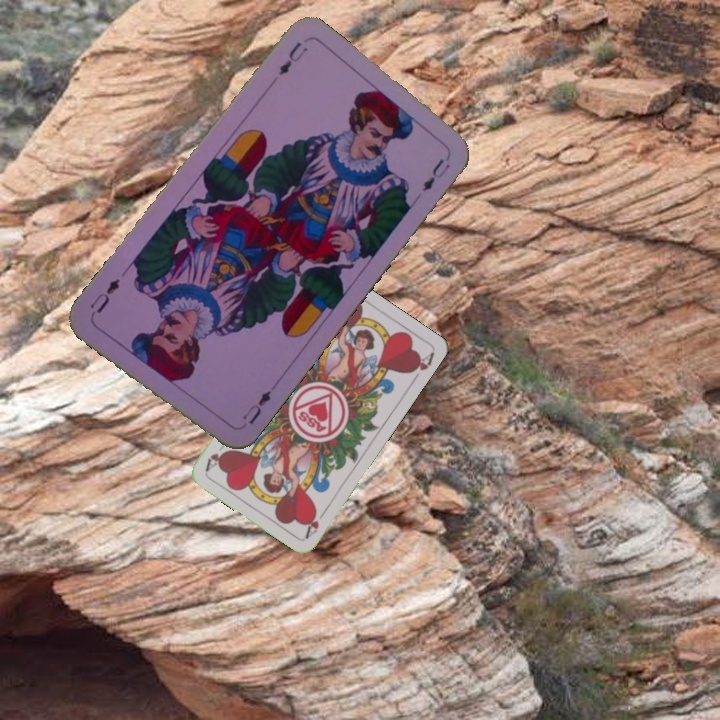EU: (274, 37, 311, 79), (238, 386, 274, 427)
HA: (301, 504, 330, 540)
